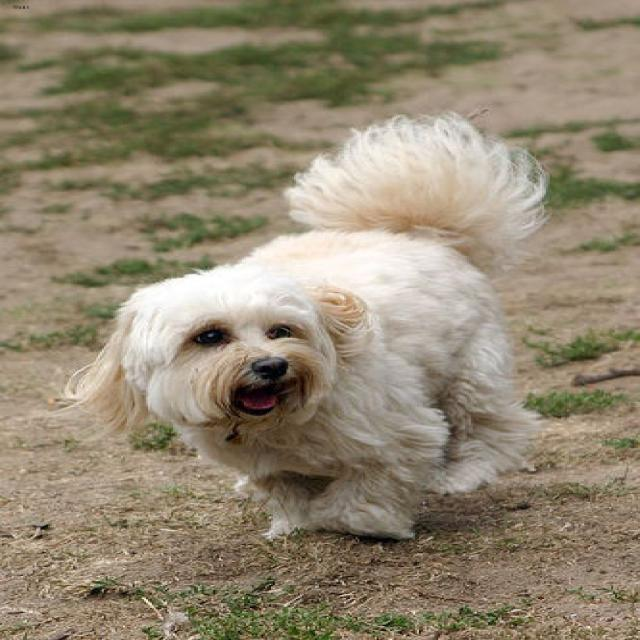dog-havanese: (31, 104, 569, 552)
